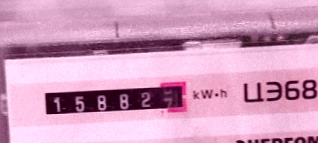1: (51, 95, 62, 113)
2: (139, 90, 150, 107)
5: (72, 94, 85, 111)
7: (161, 95, 173, 108)
8: (95, 93, 107, 110), (118, 92, 128, 108)
screen: (37, 78, 193, 119)
